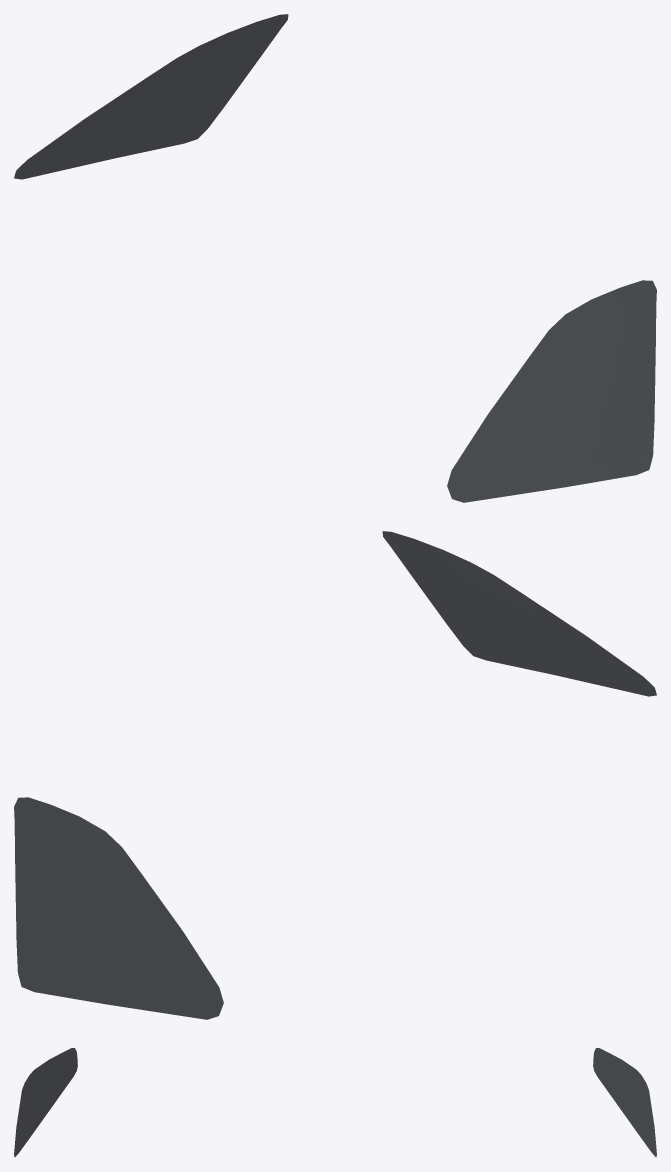
Rendered from gallo99_glass_body_ucb_lights_and_glass_transperent_0.002_lev3.glb.
3 views of the same model, one above another, from view 1: azimuth 30°, elevation 25°; view 2: azimuth 150°, elevation 25°; view 3: azimuth 270°, elevation 25° (orthographic). The views are drawn at different scales.
Parts seen in each view (by area): view 1: gallo99_glass_body_ucb_lights_and_glass_transperent_0.002_le; view 2: gallo99_glass_body_ucb_lights_and_glass_transperent_0.002_le; view 3: gallo99_glass_body_ucb_lights_and_glass_transperent_0.002_le.
Boxes of the visible parts, x1,y1,x2,y2 form: gallo99_glass_body_ucb_lights_and_glass_transperent_0.002_le: (14,14,656,502); gallo99_glass_body_ucb_lights_and_glass_transperent_0.002_le: (14,531,656,1019); gallo99_glass_body_ucb_lights_and_glass_transperent_0.002_le: (14,1048,656,1157).
Size of the model in its own units: 0.4588 by 0.272 by 1.49.
1 material, 1 textured.
